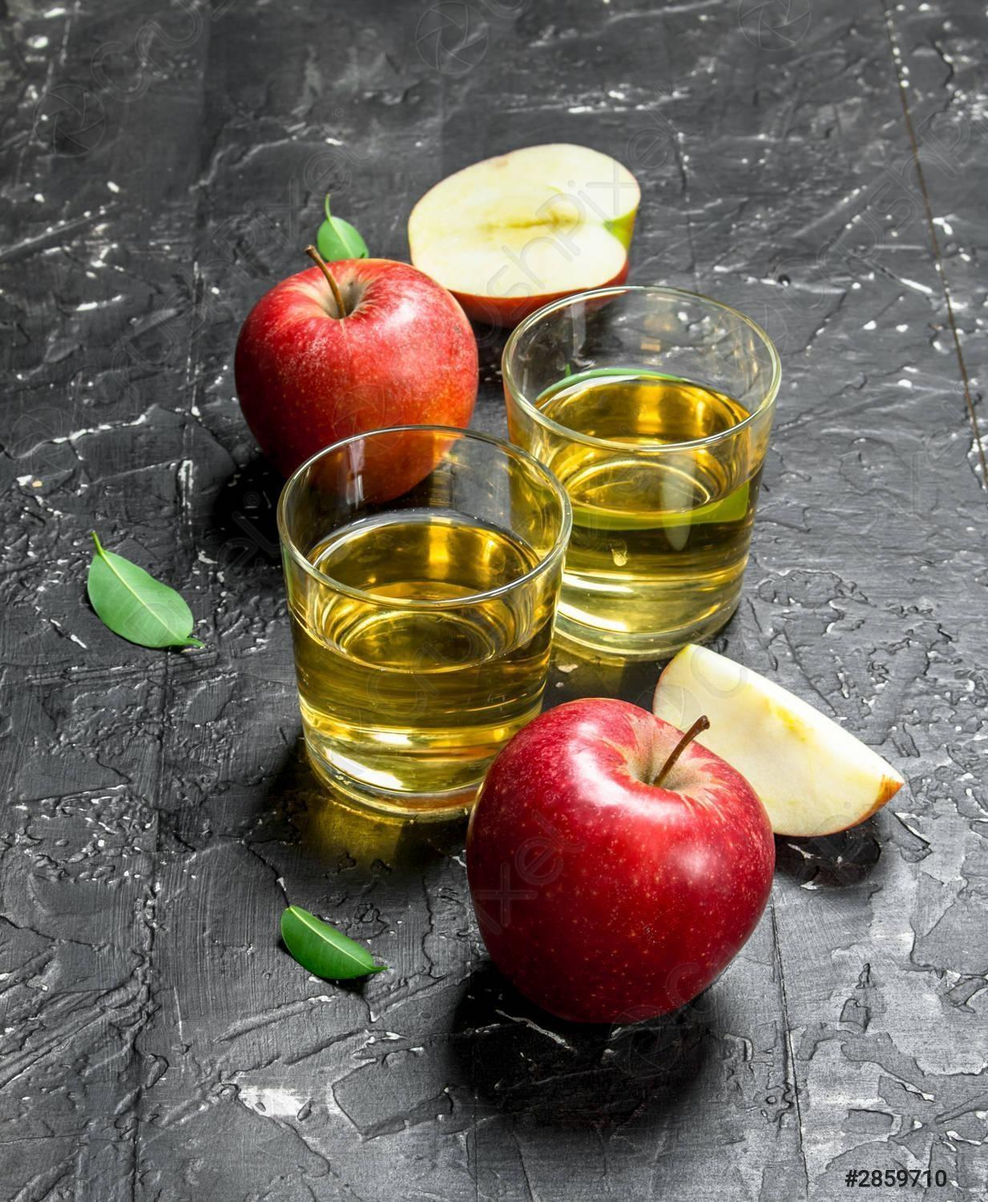glass-normal: (274, 423, 572, 819), (498, 284, 784, 659)
